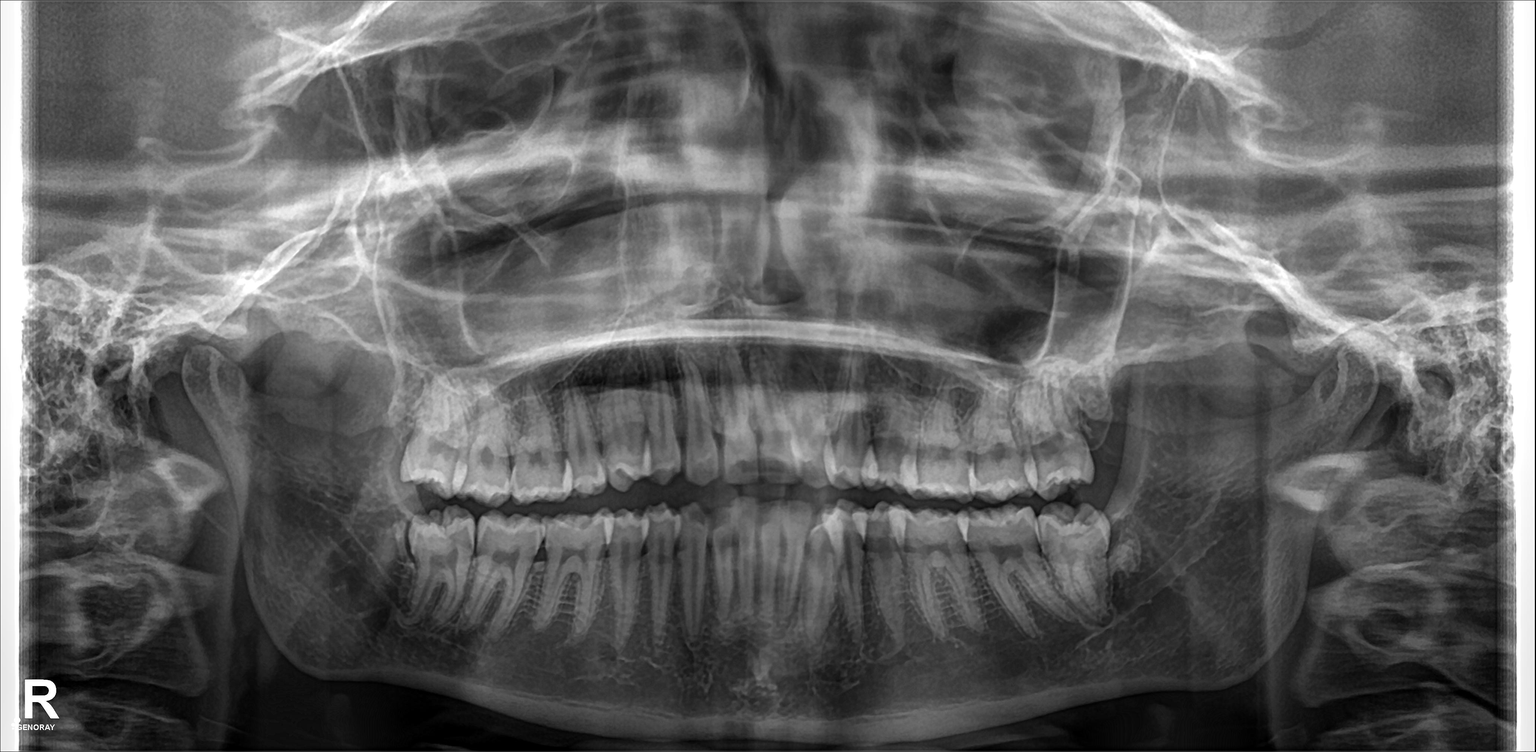Impacted Third Molar: (1114, 519, 1155, 590)
Missing Tooth: (1076, 385, 1125, 492)
